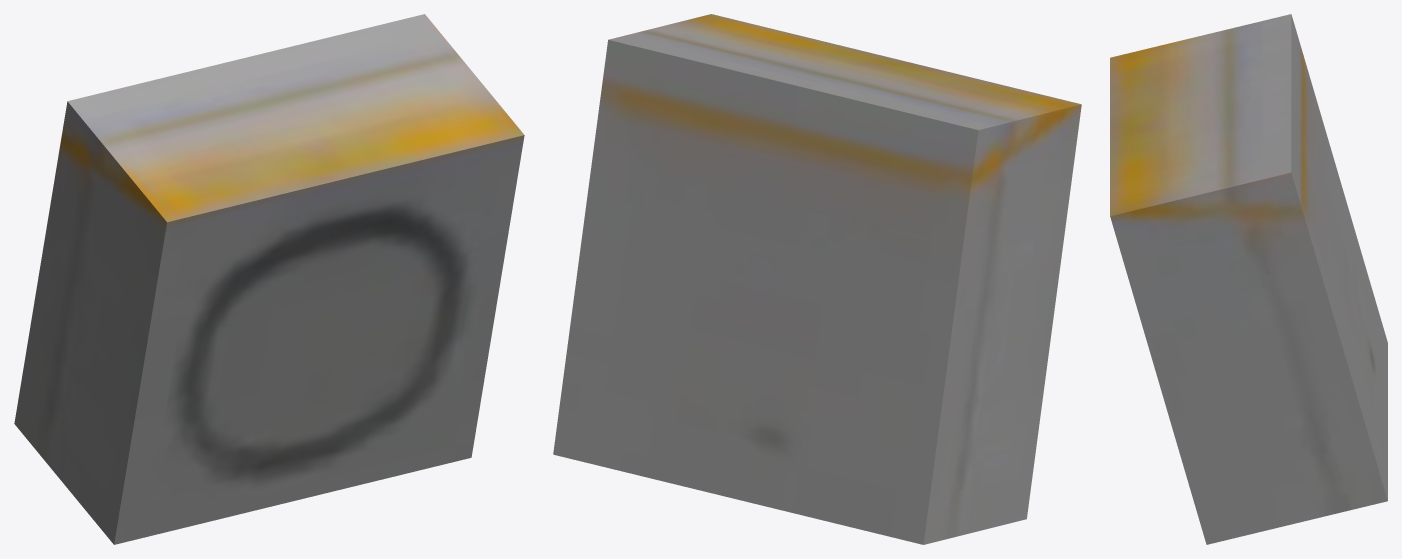
Rendered from cabinet__right_button_sleeve.glb.
3 views of the same model, side by side, from view 1: azimuth 30°, elevation 25°; view 2: azimuth 150°, elevation 25°; view 3: azimuth 270°, elevation 25° (orthographic). The views are drawn at different scales.
Visible parts, largest first — view 1: geometry_0; view 2: geometry_0; view 3: geometry_0.
Boxes of the visible parts, <box> form: geometry_0: <box>14,14,524,544</box>; geometry_0: <box>553,14,1081,544</box>; geometry_0: <box>1110,14,1387,544</box>.
Bounding box in the file's own units: 0.056 × 0.0613 × 0.0415.
1 material, 1 textured.
